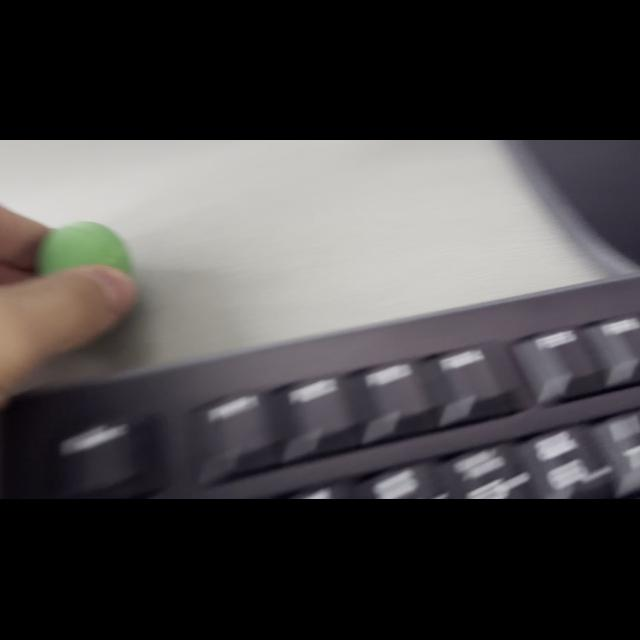objects: (31, 214, 141, 274)
